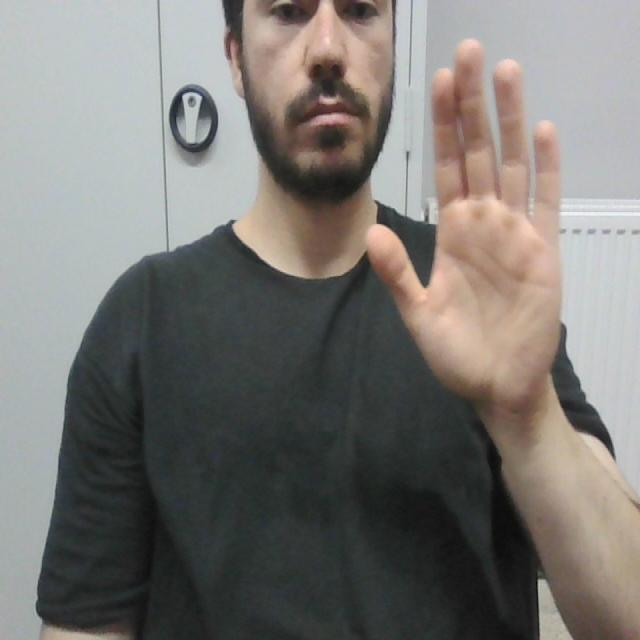Dur: (348, 19, 583, 431)
